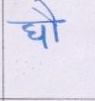o_matra: (43, 2, 61, 41)
